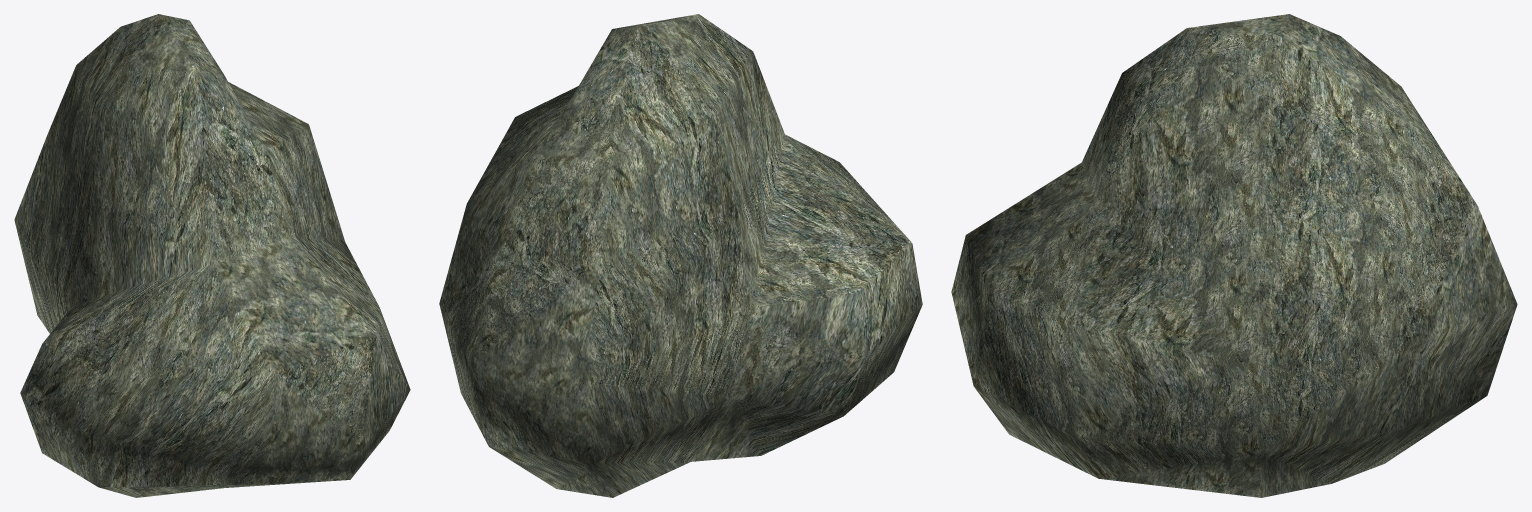
The model's file is mtns_rock_grey_a3_l1.fbx.
3 views of the same model, side by side, from view 1: azimuth 30°, elevation 25°; view 2: azimuth 150°, elevation 25°; view 3: azimuth 270°, elevation 25° (orthographic). The views are drawn at different scales.
Parts seen in each view (by area): view 1: mesh_node; view 2: mesh_node; view 3: mesh_node.
Boxes of the visible parts, <box> form: mesh_node: <box>14,14,410,497</box>; mesh_node: <box>439,14,922,497</box>; mesh_node: <box>951,14,1517,497</box>.
Size of the model in its own units: 2.64 by 3.05 by 3.58.
1 material, 1 textured.
